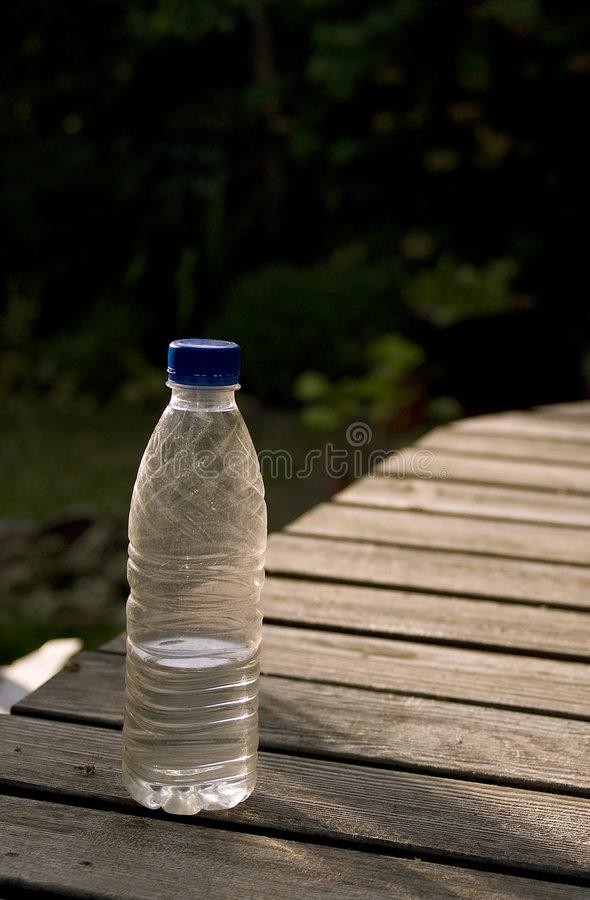bottle: (105, 318, 271, 830)
